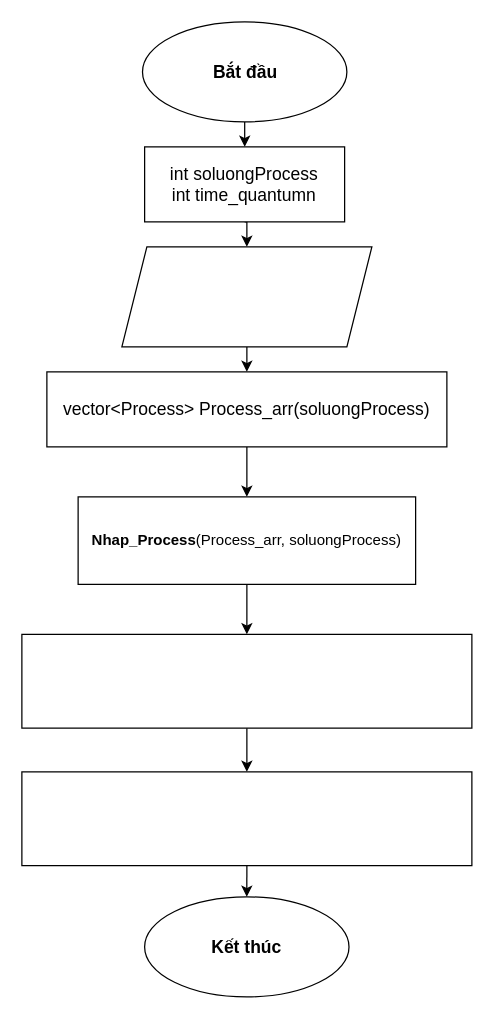
Some shapes in this 494 by 1019 pixel diagram are drawn without their labels. Each missing label, with the centre of its shape:
cin >> soluongProcess cin >> time_quantumn: (246,296)
Sap_xep_Process_theo_Arr (Process_arr, soluongProcess): (246,680)
Scheduling (Process_arr, soluongProcess, time_quantumn): (246,818)
